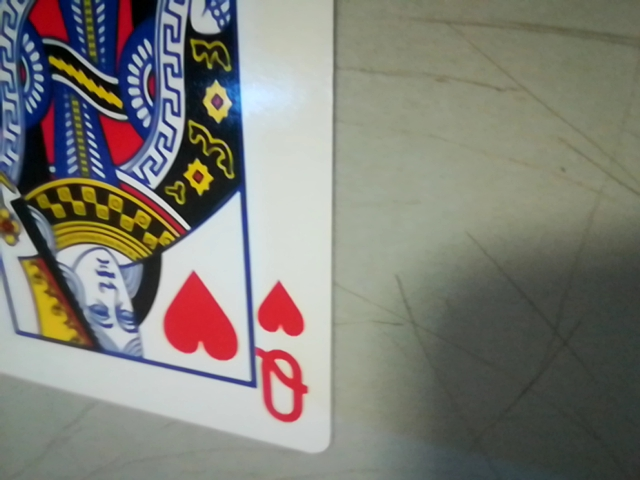hx q: (248, 278, 323, 437)
